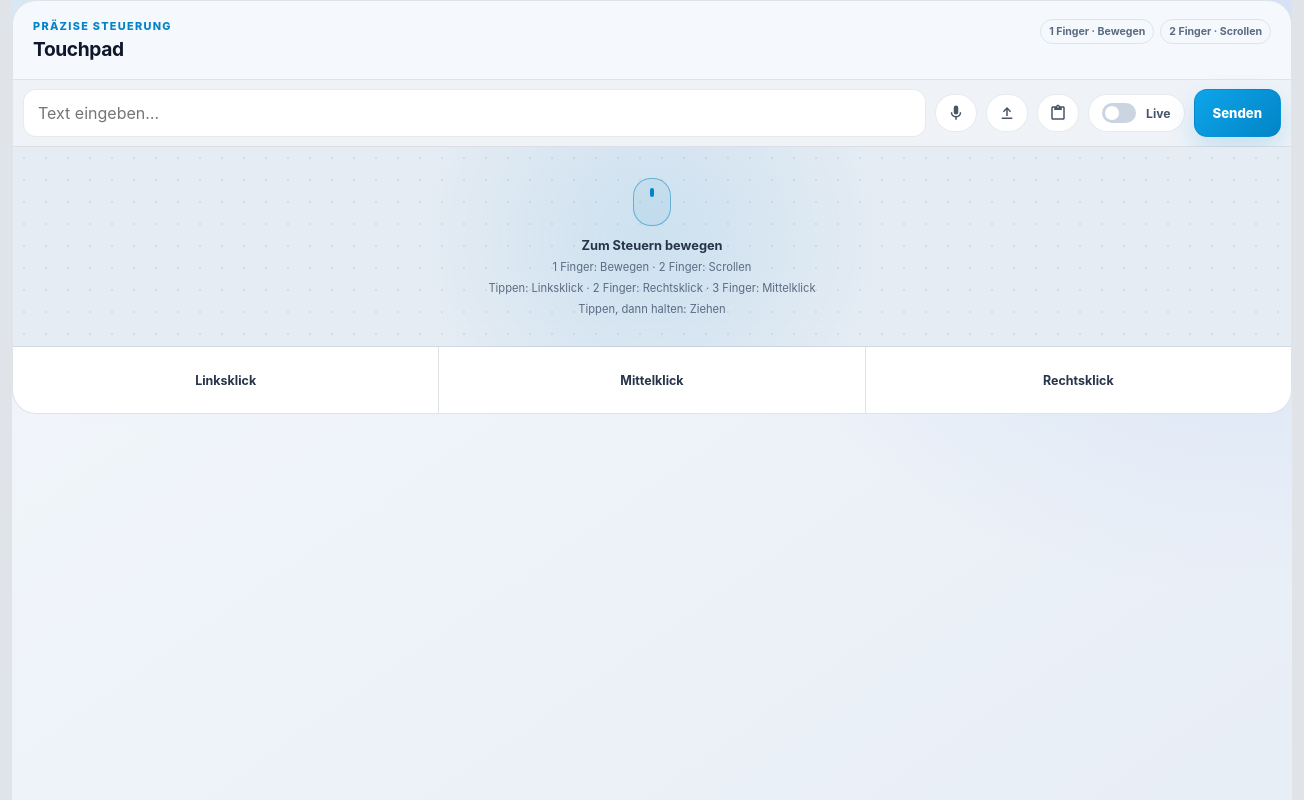
it: TouchpadComponent › shows an error and stops dictating when recognition fails
Click the switch with class "touchpad-text__mic" at (956, 113), box x1=935 y1=94 x2=977 y2=132
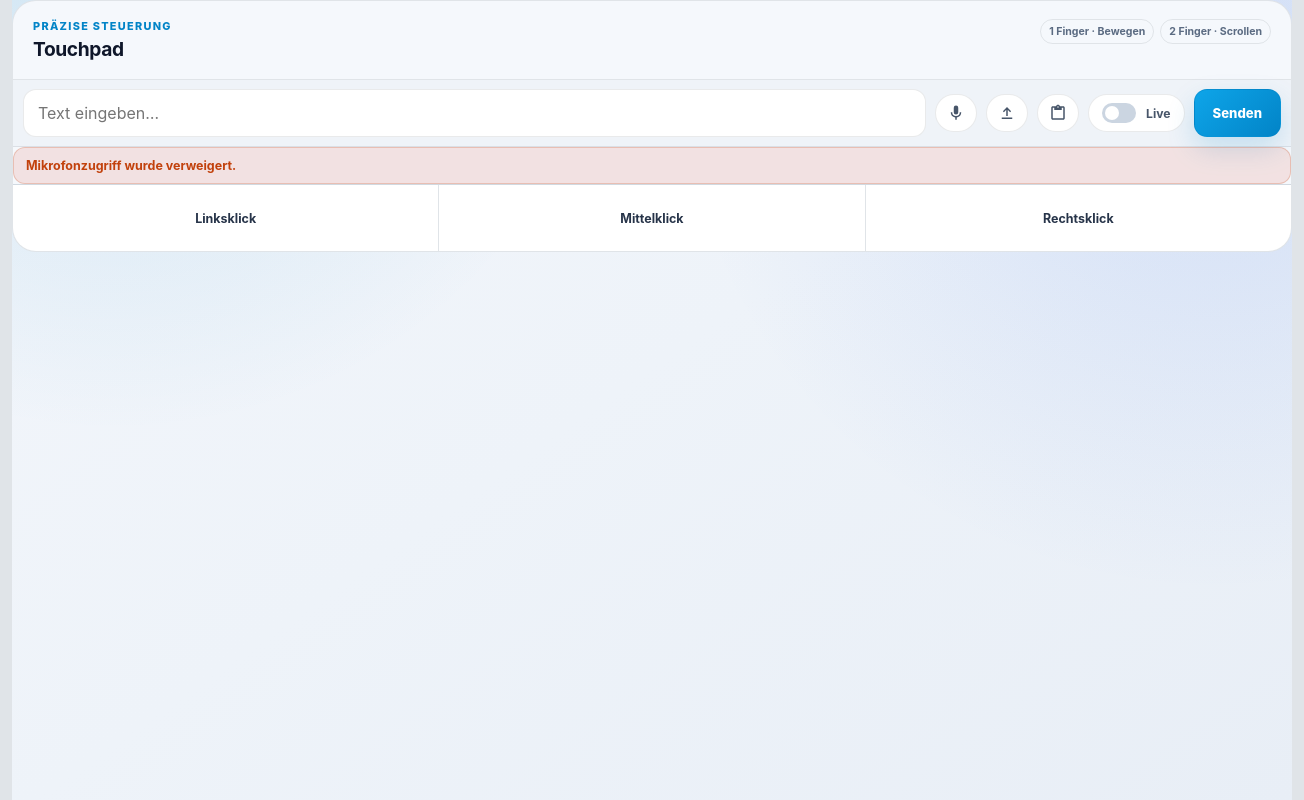
Result: the message with class "settings-message" reads "Mikrofonzugriff wurde verweigert." at x1=26 y1=158 x2=236 y2=173
